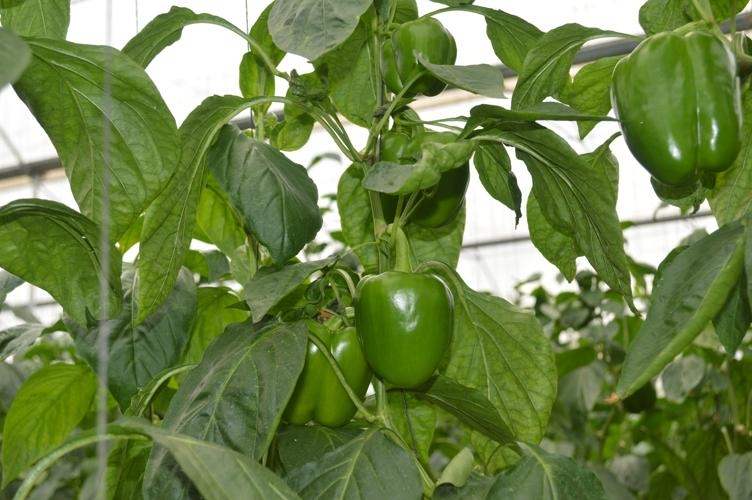BellPepper: (598, 27, 748, 194), (345, 268, 453, 389), (271, 313, 366, 435), (377, 14, 466, 111)
